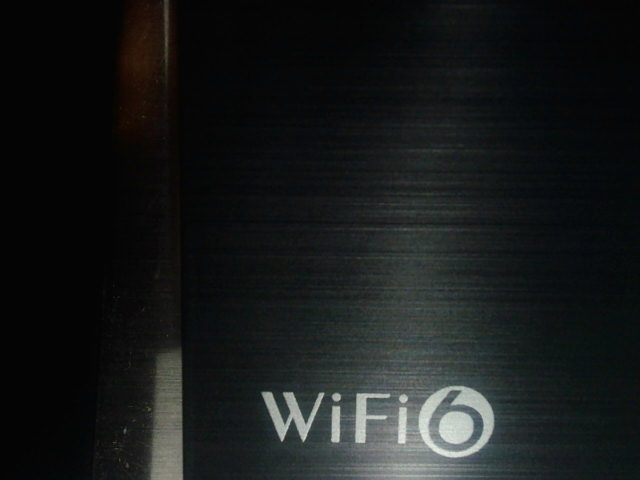AK_ZTEWIFI6Black: (252, 377, 511, 464)
